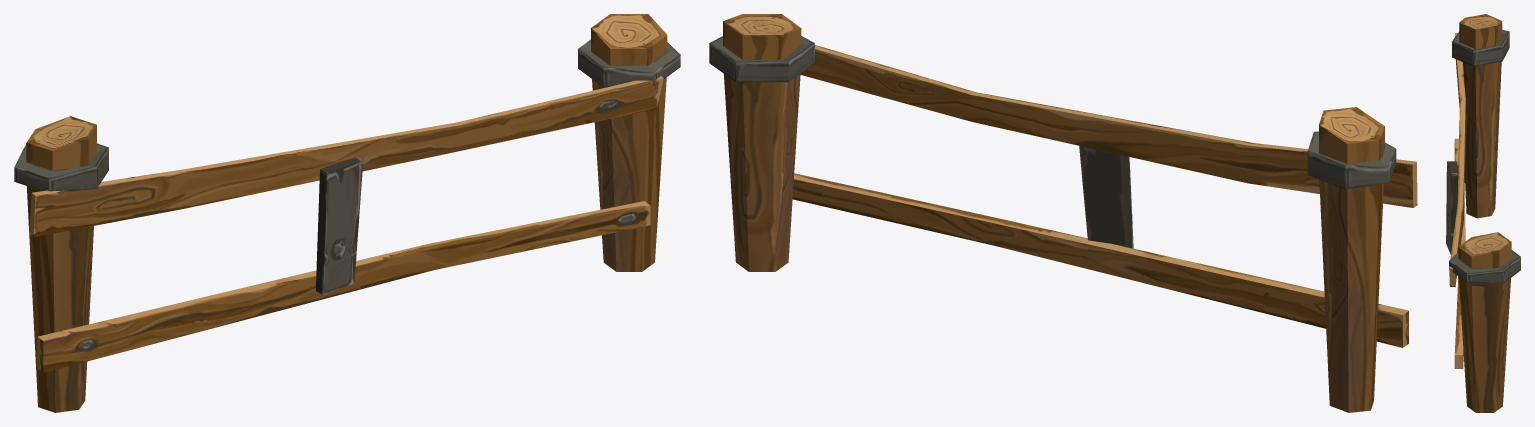
The model's file is FarmFence_1.fbx.
3 views of the same model, side by side, from view 1: azimuth 30°, elevation 25°; view 2: azimuth 150°, elevation 25°; view 3: azimuth 270°, elevation 25° (orthographic). The views are drawn at different scales.
Visible parts, largest first — view 1: FarmFence_1; view 2: FarmFence_1; view 3: FarmFence_1.
Part boxes in pixels (<box>): FarmFence_1: <box>14,14,680,412</box>; FarmFence_1: <box>709,14,1417,412</box>; FarmFence_1: <box>1446,14,1520,412</box>.
Size of the model in its own units: 2.87 by 1.15 by 0.4052.
